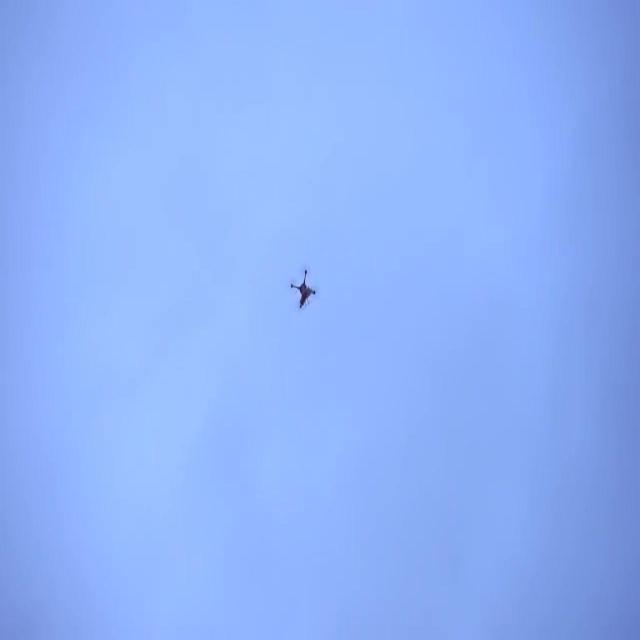drone: (290, 266, 318, 312)
